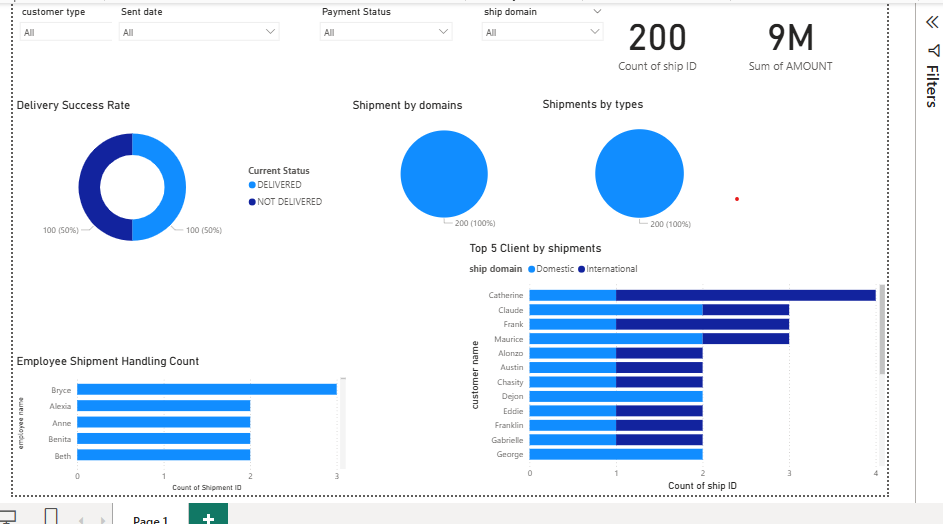

The dashboard page shown, as its layout file describes it:
{"tool":"powerbi","page":{"name":"Page 1","canvas":[1280,720],"ordinal":0},"visuals":[{"type":"donutChart","title":"Delivery Success Rate","fields":{"Y":["Status.ship ID"],"Category":["Status.Current Status"]},"box":[0,138.6,467.1,240],"z":0},{"type":"barChart","title":"Top 5 Client by shipments","fields":{"Category":["Customer.customer name"],"Y":["Shipment_Details.ship ID"],"Series":["Shipment_Details.ship domain"]},"box":[662.9,348.3,617.6,371.7],"z":1000},{"type":"barChart","title":"Employee Shipment Handling Count","fields":{"Category":["Employee_Details.employee name"],"Y":["employee_manages_shipment.Shipment ID"]},"box":[0,513.7,491.7,206.3],"z":2000},{"type":"pieChart","title":"Shipments by types","fields":{"Y":["Shipment_Details.service type"]},"box":[770,137.1,294.3,202.9],"z":3000},{"type":"pieChart","title":"Shipment by domains","fields":{"Y":["Shipment_Details.ship domain"]},"box":[491.4,138.6,278.6,201.4],"z":4000},{"type":"slicer","fields":{"Values":["Customer.customer type"]},"box":[0,0,200.5,117.1],"z":5000},{"type":"slicer","fields":{"Values":["Status.Sent date"]},"box":[144.9,0,254.6,117.1],"z":6000},{"type":"slicer","fields":{"Values":["Payment_Details.Payment Status"]},"box":[439,0,213.7,117.1],"z":7000},{"type":"card","fields":{"Values":["Payment_Details.AMOUNT"]},"box":[997.1,0,282.9,105.7],"z":8000},{"type":"card","fields":{"Values":["Status.ship ID"]},"box":[848.6,0,188.6,105.7],"z":9000},{"type":"slicer","fields":{"Values":["Shipment_Details.ship domain"]},"box":[676.7,0,198.3,105],"z":10000}]}

Visuals, with their boxes on the page's 1280x720 design canvas (x1, y1, x2, y2). These are canvas units, not pixel positions in the 943x524 screenshot, which may show the page scaled, cropped or inside an application window:
"Delivery Success Rate" donutChart: locate(0, 139, 467, 379)
"Top 5 Client by shipments" barChart: locate(663, 348, 1280, 720)
"Employee Shipment Handling Count" barChart: locate(0, 514, 492, 720)
"Shipments by types" pieChart: locate(770, 137, 1064, 340)
"Shipment by domains" pieChart: locate(491, 139, 770, 340)
slicer - Customer.customer type: locate(0, 0, 200, 117)
slicer - Status.Sent date: locate(145, 0, 400, 117)
slicer - Payment_Details.Payment Status: locate(439, 0, 653, 117)
card - Payment_Details.AMOUNT: locate(997, 0, 1280, 106)
card - Status.ship ID: locate(849, 0, 1037, 106)
slicer - Shipment_Details.ship domain: locate(677, 0, 875, 105)
